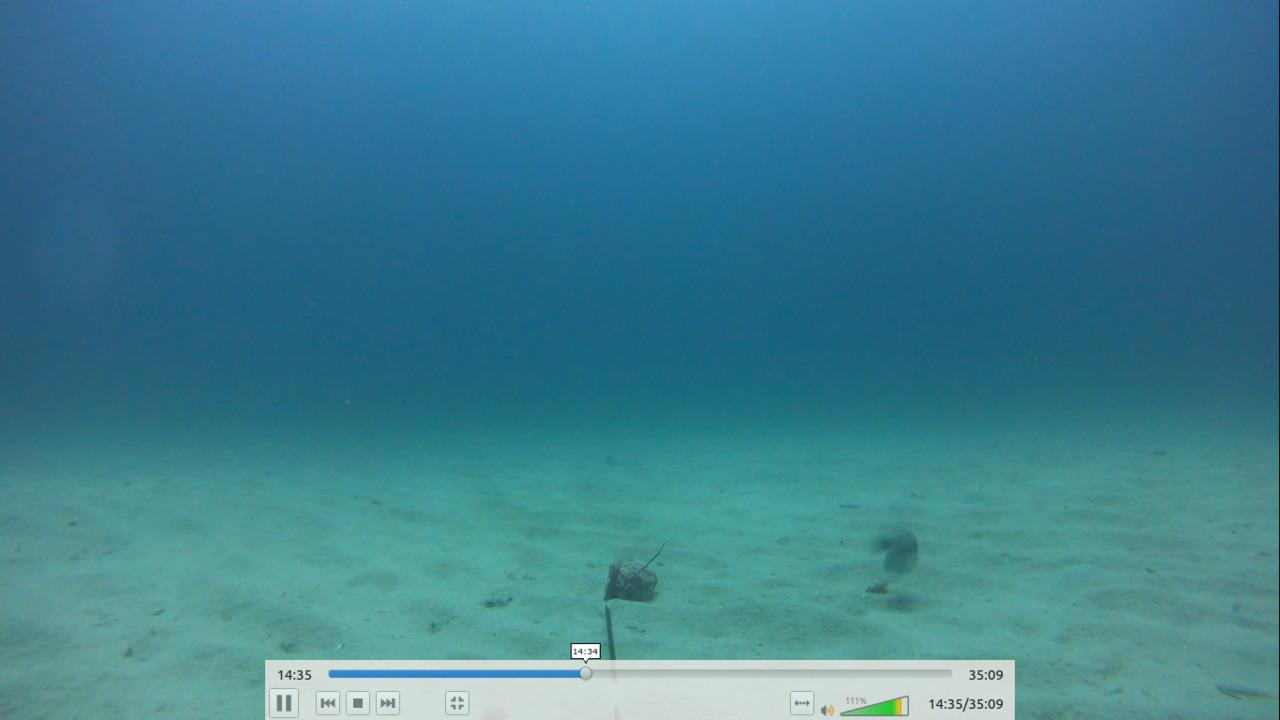raor: (852, 518, 925, 581)
